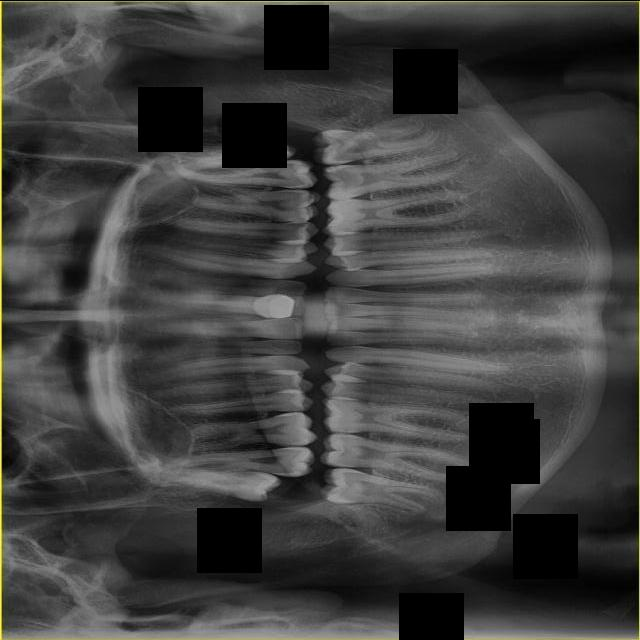74: (156, 288, 251, 307)
Sterngold Implant: (330, 168, 360, 194), (339, 441, 355, 459), (325, 138, 347, 151)
Zimmer Implant: (252, 292, 305, 321)
